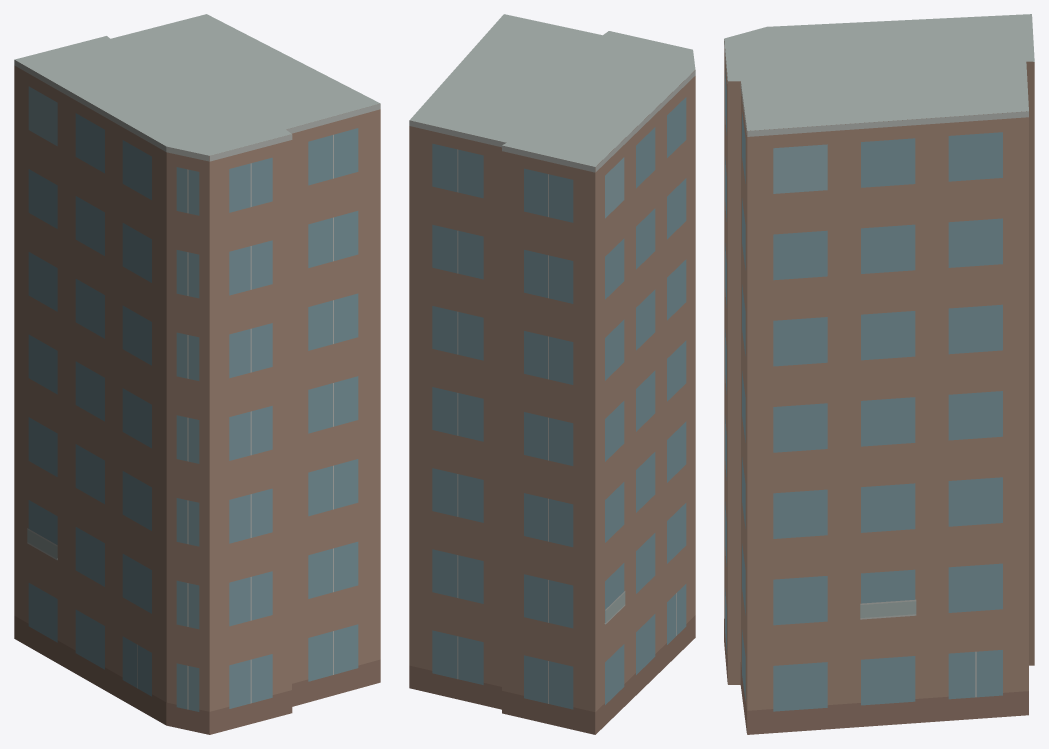
Rendered from survey-upis-32934261.glb.
3 renders of one model, left to right at view 1: azimuth 30°, elevation 25°; view 2: azimuth 150°, elevation 25°; view 3: azimuth 270°, elevation 25°, orthographic. The views are drawn at different scales.
Visible parts, largest first — view 1: survey-upis-32934261.tmp; view 2: survey-upis-32934261.tmp; view 3: survey-upis-32934261.tmp.
Boxes of the visible parts, x1,y1,x2,y2 form: survey-upis-32934261.tmp: [14, 14, 380, 734]; survey-upis-32934261.tmp: [409, 14, 695, 734]; survey-upis-32934261.tmp: [724, 14, 1034, 734].
Bounding box in the file's own units: 10.19 × 24.5 × 11.42.
